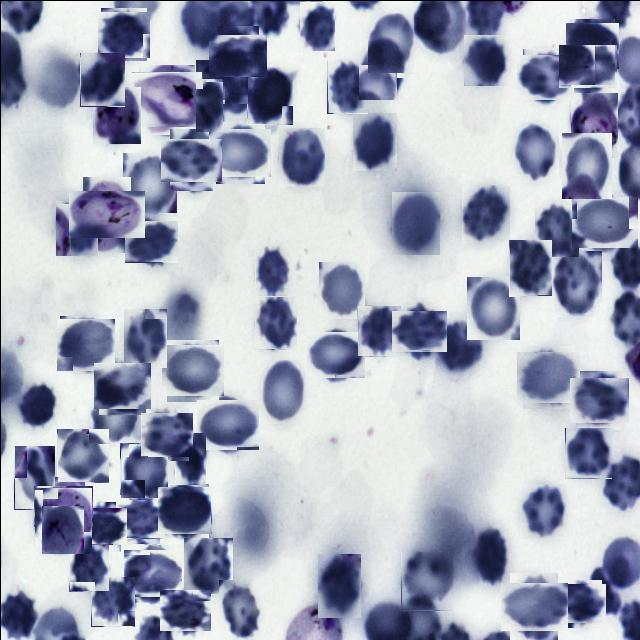difficult: (33, 487, 91, 554)
red blood cell: (575, 192, 633, 252), (549, 250, 601, 316), (466, 274, 519, 338), (519, 348, 577, 406), (504, 577, 562, 635), (561, 132, 611, 198), (122, 152, 176, 212), (163, 342, 220, 398), (199, 395, 255, 452), (58, 316, 114, 372), (390, 190, 439, 254), (212, 124, 267, 180), (400, 551, 452, 610), (258, 359, 305, 424), (357, 37, 404, 100), (200, 54, 254, 108), (182, 536, 232, 594), (511, 121, 558, 182), (366, 12, 413, 73), (125, 546, 178, 600), (316, 553, 360, 618), (88, 386, 138, 443), (277, 127, 324, 187), (309, 328, 362, 381), (56, 428, 108, 482), (461, 184, 509, 242), (164, 133, 217, 185), (96, 359, 148, 412), (436, 316, 484, 373), (246, 65, 292, 124), (158, 484, 210, 536), (572, 374, 624, 426), (120, 442, 168, 498), (218, 579, 262, 640), (519, 51, 571, 102), (518, 483, 566, 538), (122, 308, 166, 368), (13, 445, 54, 509), (318, 261, 364, 318), (561, 40, 612, 91), (352, 112, 396, 170), (566, 20, 616, 70), (38, 480, 88, 530), (212, 30, 262, 80), (98, 9, 148, 58), (79, 52, 124, 106), (534, 201, 578, 256), (54, 200, 97, 256), (508, 239, 551, 295), (564, 427, 611, 478), (126, 217, 174, 265), (394, 306, 442, 354), (142, 410, 190, 458), (463, 34, 508, 85), (253, 296, 296, 349), (356, 305, 400, 356), (90, 576, 134, 626), (326, 60, 367, 113), (162, 586, 208, 632), (118, 496, 162, 541), (80, 503, 124, 548), (68, 542, 108, 591), (559, 581, 603, 625), (474, 530, 508, 586), (254, 245, 291, 296), (298, 0, 334, 50), (18, 382, 55, 430), (174, 432, 205, 484), (194, 78, 222, 132)
ring: (570, 92, 617, 157)
trophozoite: (135, 68, 198, 130), (75, 183, 137, 245), (92, 86, 140, 143)
